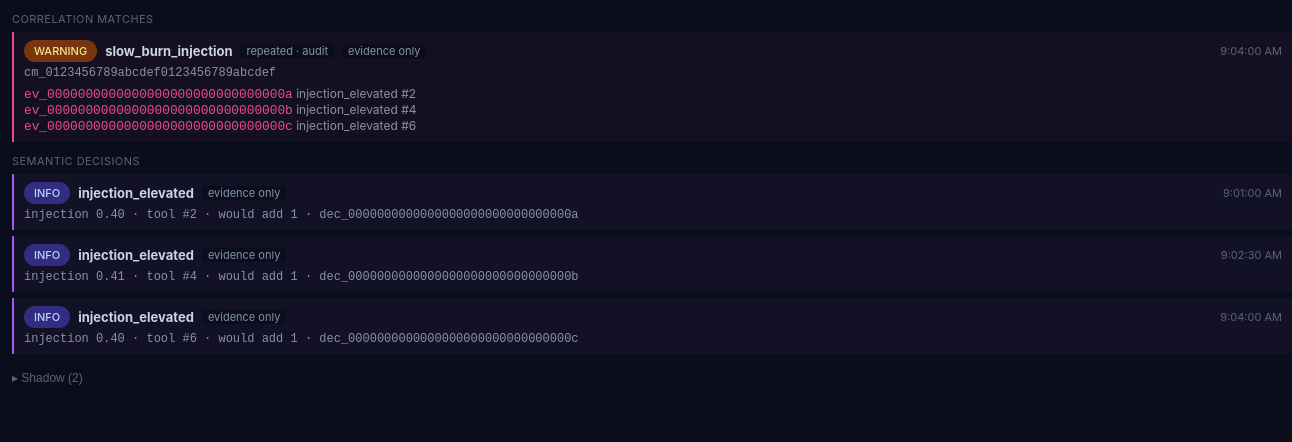
it: SemanticEvidence › keeps shadow data in a collapsed subsection
Click the button with class "evidence-shadow-toggle" at (47, 378), box [12,367,83,389]
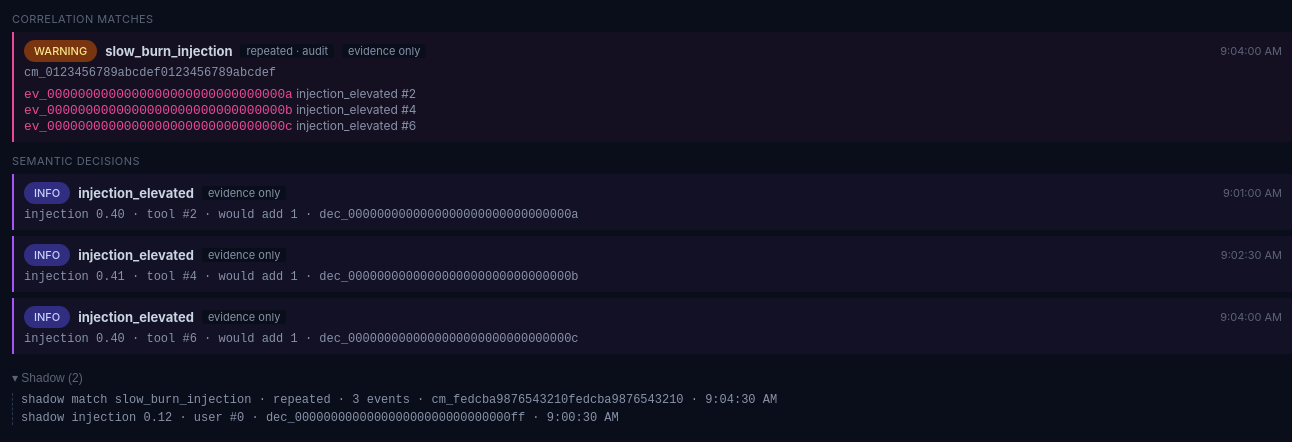
Expected: the element with class "evidence-shadow-body" shows "dec_000000000000000000000000000000ff", [266,411,525,425]
Expected: the element with class "evidence-shadow-body" shows "cm_fedcba9876543210fedcba9876543210", [432,393,684,407]
Expected: the element with class "evidence-shadow-body" shows "0.12", [143,411,172,425]
